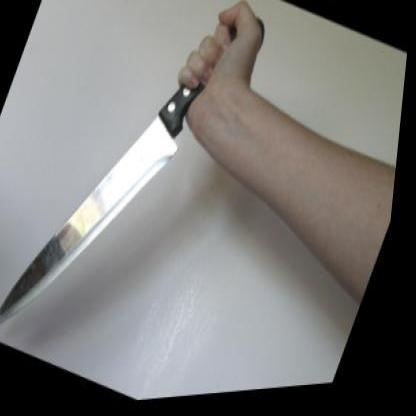knife: (0, 0, 235, 388)
